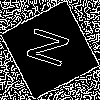N: (25, 25, 80, 73)
